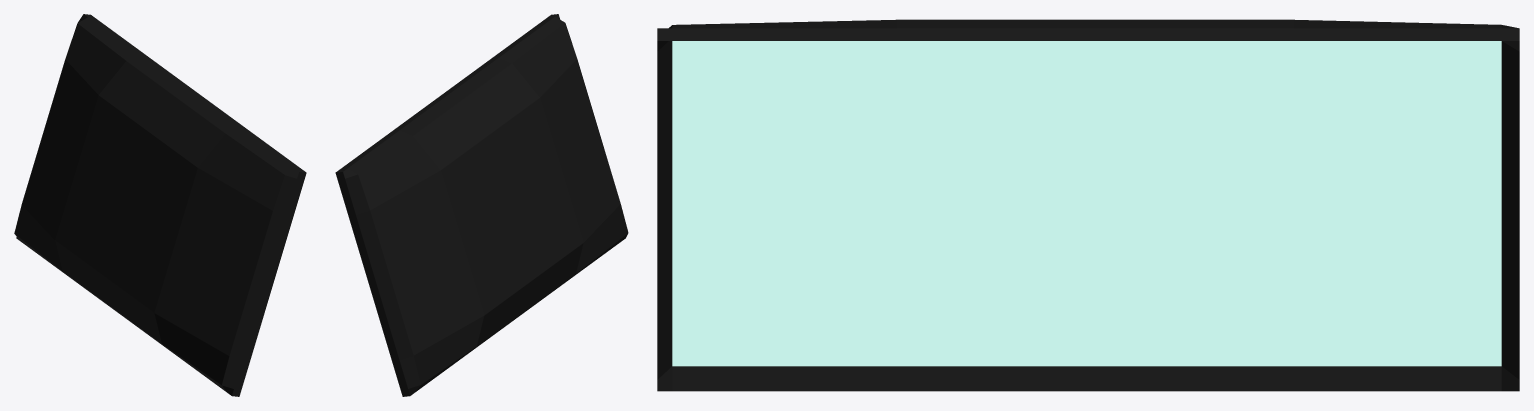
3 views of the same model, side by side, from view 1: azimuth 30°, elevation 25°; view 2: azimuth 150°, elevation 25°; view 3: azimuth 270°, elevation 25° (orthographic). The views are drawn at different scales.
Parts seen in each view (by area): view 1: Cube.002; view 2: Cube.002; view 3: Cube.002.
Boxes of the visible parts, x1,y1,x2,y2 form: Cube.002: [14, 14, 306, 396]; Cube.002: [335, 14, 628, 396]; Cube.002: [657, 19, 1519, 391].
Size of the model in its own units: 1.02 by 2.21 by 4.11.
